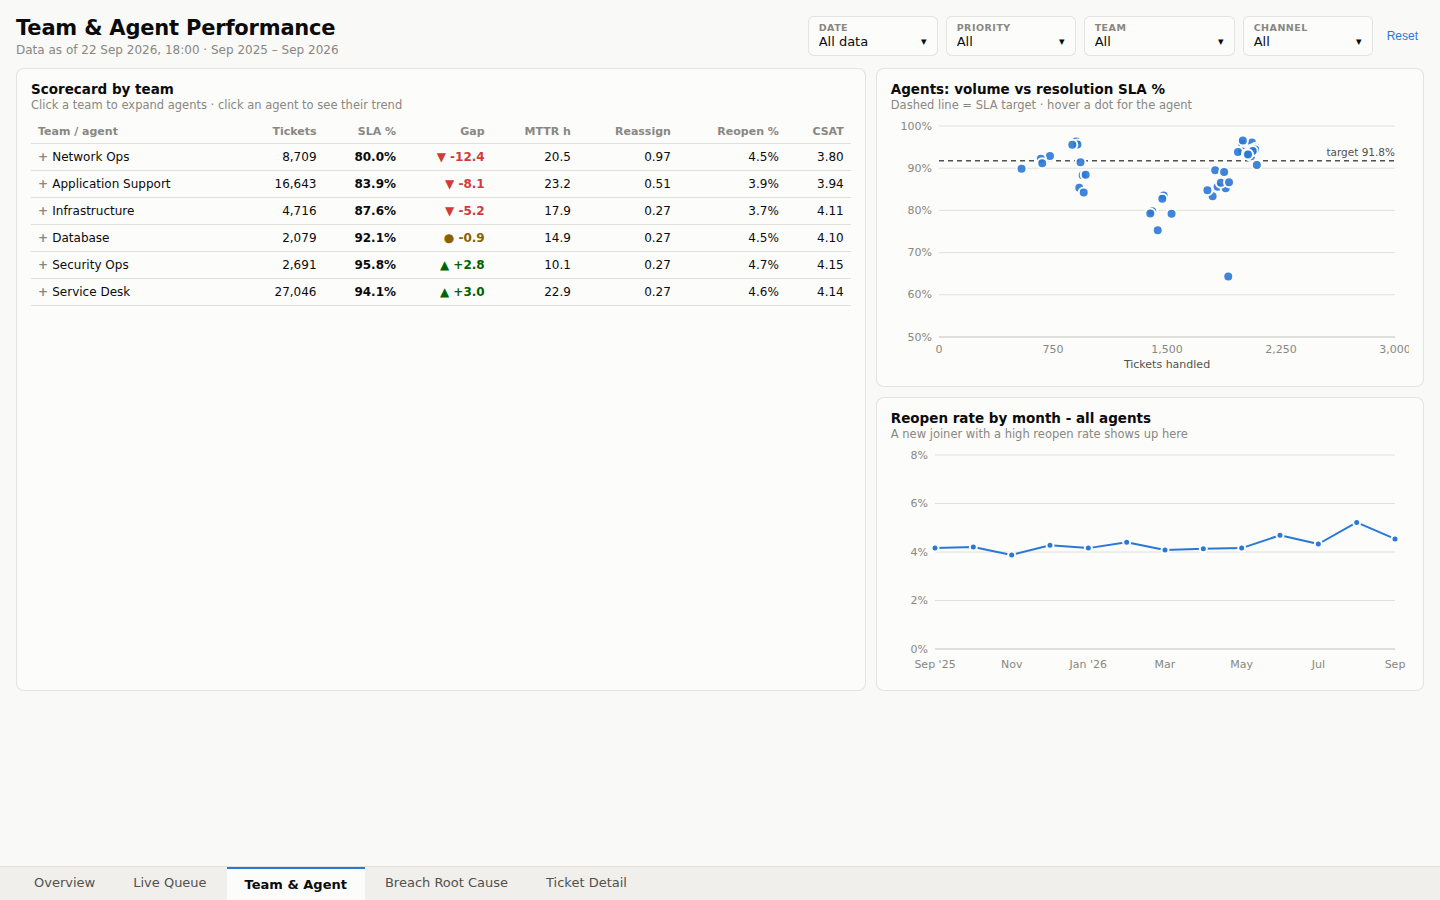

This screenshot's page, from the dashboard's own definition file:
{"tool":"powerbi","page":{"name":"Team & Agent","canvas":[1280,764],"ordinal":2},"visuals":[{"type":"pageNavigator","box":[16,8,1248,34],"z":1000},{"type":"textbox","box":[12,44,640,46],"z":2000},{"type":"cardVisual","fields":{"Data":["_Measures.As Of Label"]},"box":[12,82,560,30],"z":3000},{"type":"slicer","fields":{"Values":["DimDate.Date"]},"box":[684,46,240,66],"z":4000},{"type":"slicer","fields":{"Values":["DimPriority.Priority"]},"box":[934,46,150,66],"z":5000},{"type":"slicer","fields":{"Values":["DimTeam.Team"]},"box":[1094,46,170,66],"z":6000},{"type":"cardVisual","fields":{"Data":["_Measures.Total Tickets"]},"box":[16,116,242,106],"z":7000},{"type":"cardVisual","fields":{"Data":["_Measures.Resolution SLA %"]},"box":[268,116,242,106],"z":8000},{"type":"cardVisual","fields":{"Data":["_Measures.Avg Reassignments"]},"box":[519,116,242,106],"z":9000},{"type":"cardVisual","fields":{"Data":["_Measures.Reopen Rate %"]},"box":[771,116,242,106],"z":10000},{"type":"cardVisual","fields":{"Data":["_Measures.Avg CSAT"]},"box":[1022,116,242,106],"z":11000},{"type":"pivotTable","title":"Scorecard by team","fields":{"Rows":["DimTeam.Team","DimAgent.AgentName"],"Values":["_Measures.Total Tickets","_Measures.Resolution SLA %","_Measures.SLA Gap Label","_Measures.MTTR (hrs)","_Measures.Avg Reassignments","_Measures.Reopen Rate %","_Measures.Avg CSAT"]},"box":[16,230,760,264],"z":12000},{"type":"tableEx","title":"Agent leaderboard","fields":{"Values":["DimAgent.AgentName","DimTeam.Team","_Measures.Total Tickets","_Measures.Resolution SLA %","_Measures.SLA Target %","_Measures.SLA Gap Label","_Measures.MTTR (hrs)","_Measures.Reopen Rate %","_Measures.Avg CSAT"]},"box":[16,504,760,252],"z":13000},{"type":"scatterChart","title":"Agents: volume vs resolution SLA %","fields":{"Category":["DimAgent.AgentName"],"X":["_Measures.Total Tickets"],"Y":["_Measures.Resolution SLA %"]},"box":[786,230,478,264],"z":14000},{"type":"lineChart","title":"Reopen rate by month","fields":{"Category":["DimDate.MonthLabel"],"Y":["_Measures.Reopen Rate %"]},"box":[786,504,478,252],"z":15000}]}

Visuals, with their boxes on the page's 1280x764 design canvas (x1, y1, x2, y2). These are canvas units, not pixel positions in the 1440x900 screenshot, which may show the page scaled, cropped or inside an application window:
pageNavigator: 16/8/1264/42
textbox: 12/44/652/90
cardVisual - _Measures.As Of Label: 12/82/572/112
slicer - DimDate.Date: 684/46/924/112
slicer - DimPriority.Priority: 934/46/1084/112
slicer - DimTeam.Team: 1094/46/1264/112
cardVisual - _Measures.Total Tickets: 16/116/258/222
cardVisual - _Measures.Resolution SLA %: 268/116/510/222
cardVisual - _Measures.Avg Reassignments: 519/116/761/222
cardVisual - _Measures.Reopen Rate %: 771/116/1013/222
cardVisual - _Measures.Avg CSAT: 1022/116/1264/222
"Scorecard by team" pivotTable: 16/230/776/494
"Agent leaderboard" tableEx: 16/504/776/756
"Agents: volume vs resolution SLA %" scatterChart: 786/230/1264/494
"Reopen rate by month" lineChart: 786/504/1264/756
